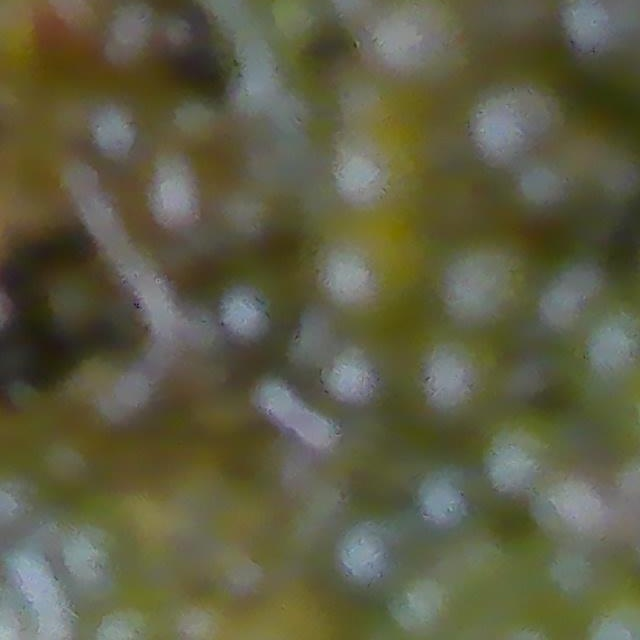SeaGrape: (310, 209, 424, 326), (355, 0, 480, 99), (431, 232, 534, 334), (408, 327, 501, 428), (469, 71, 567, 155), (479, 410, 559, 493), (535, 254, 609, 331), (576, 305, 640, 392), (572, 131, 640, 211), (538, 472, 611, 544), (390, 571, 462, 638), (331, 518, 397, 587), (326, 343, 386, 406), (415, 467, 471, 531)
